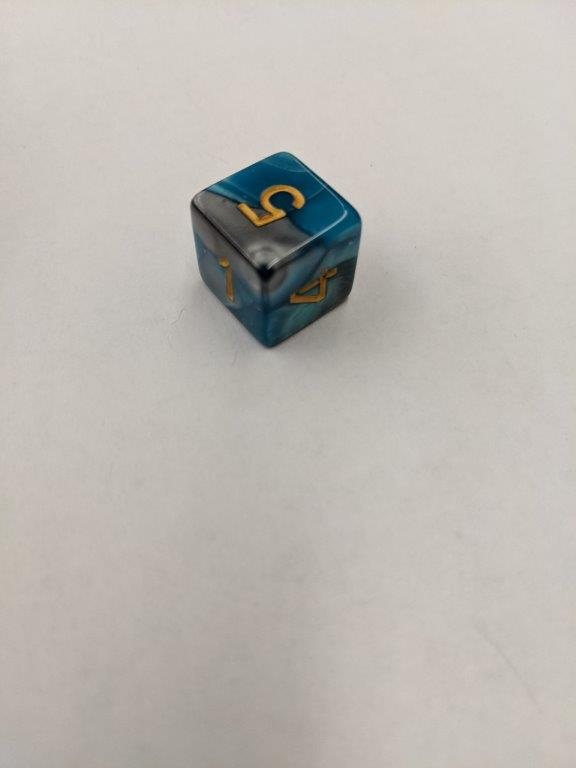d6-5: (188, 148, 363, 349)
